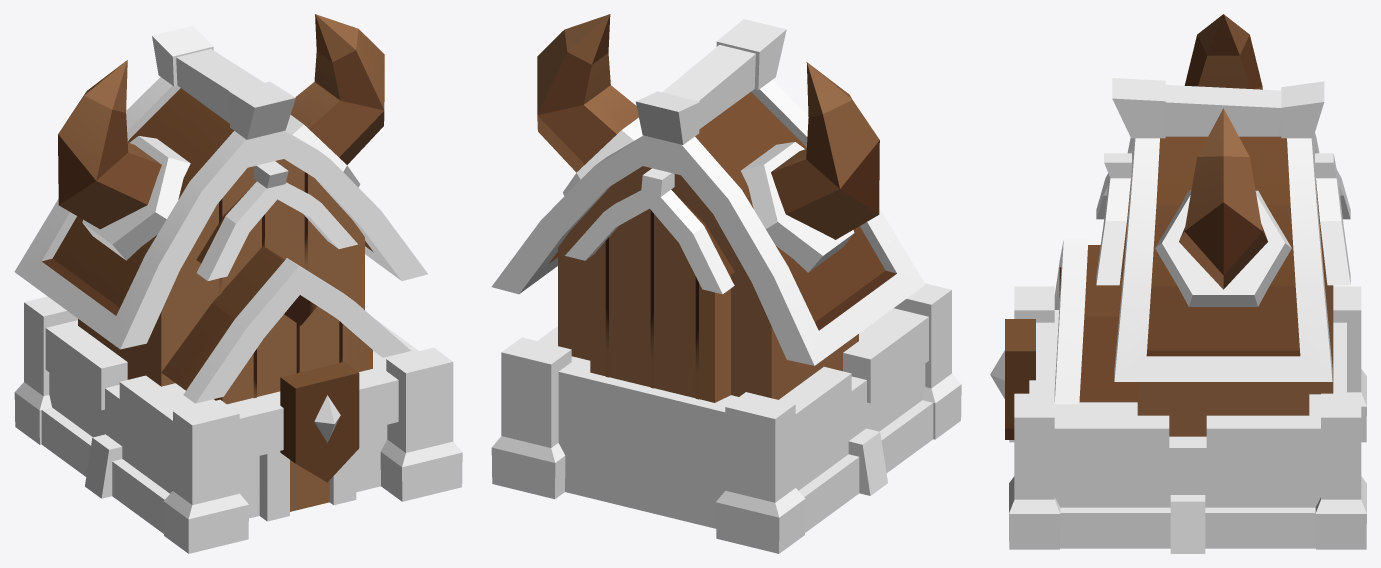
Rendered from Building_CityHall_Lv12.fbx.
3 views of the same model, side by side, from view 1: azimuth 30°, elevation 25°; view 2: azimuth 150°, elevation 25°; view 3: azimuth 270°, elevation 25° (orthographic). The views are drawn at different scales.
Visible parts, largest first — view 1: Building_CityHall_Lv12; view 2: Building_CityHall_Lv12; view 3: Building_CityHall_Lv12.
Part boxes in pixels (left/top/right/bottom): Building_CityHall_Lv12: left=14, top=14, right=462, bottom=553; Building_CityHall_Lv12: left=491, top=14, right=961, bottom=553; Building_CityHall_Lv12: left=990, top=14, right=1366, bottom=553.
Bounding box in the file's own units: 1.07 × 1.27 × 1.04.
